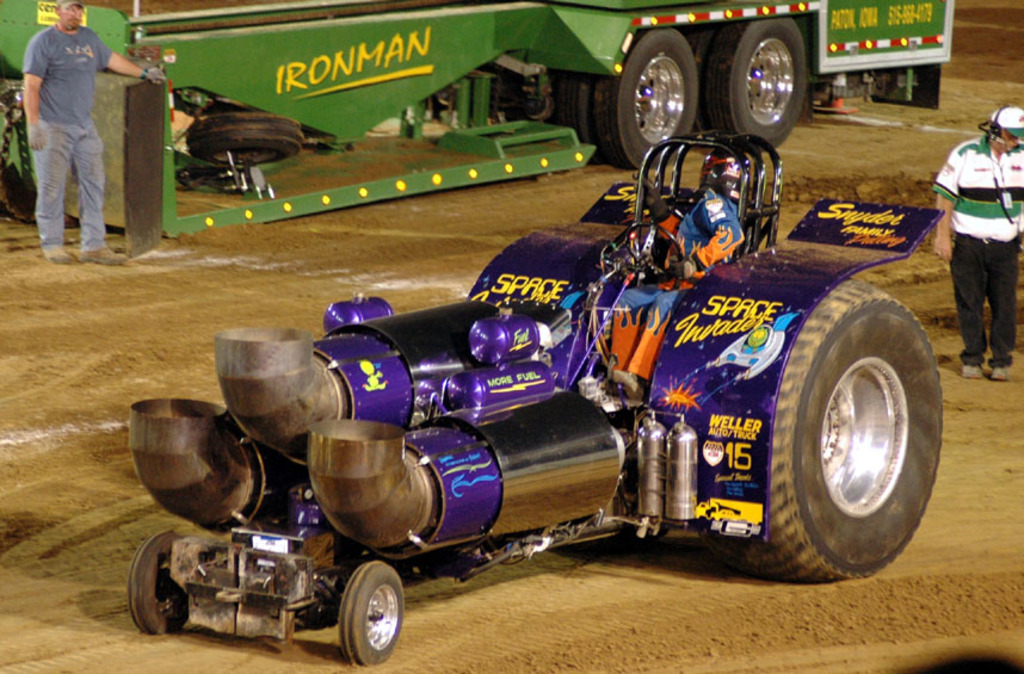Person: (22, 0, 165, 263), (606, 143, 750, 403), (931, 105, 1024, 379)
